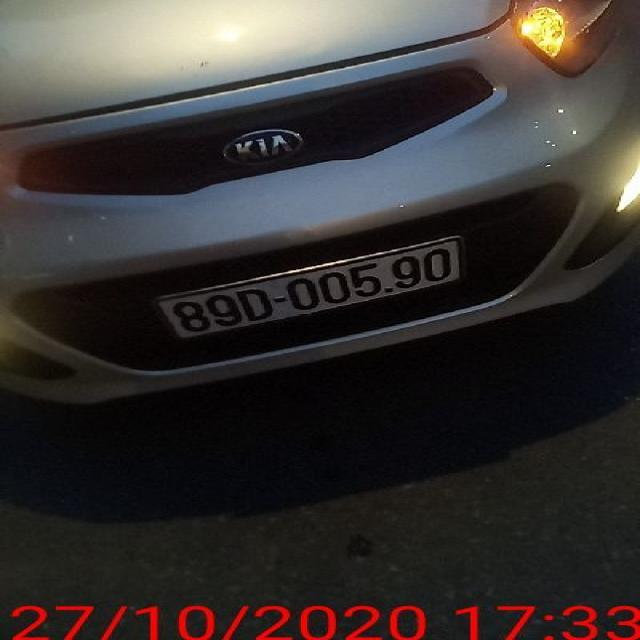bien_so_oto: (158, 235, 508, 341)
